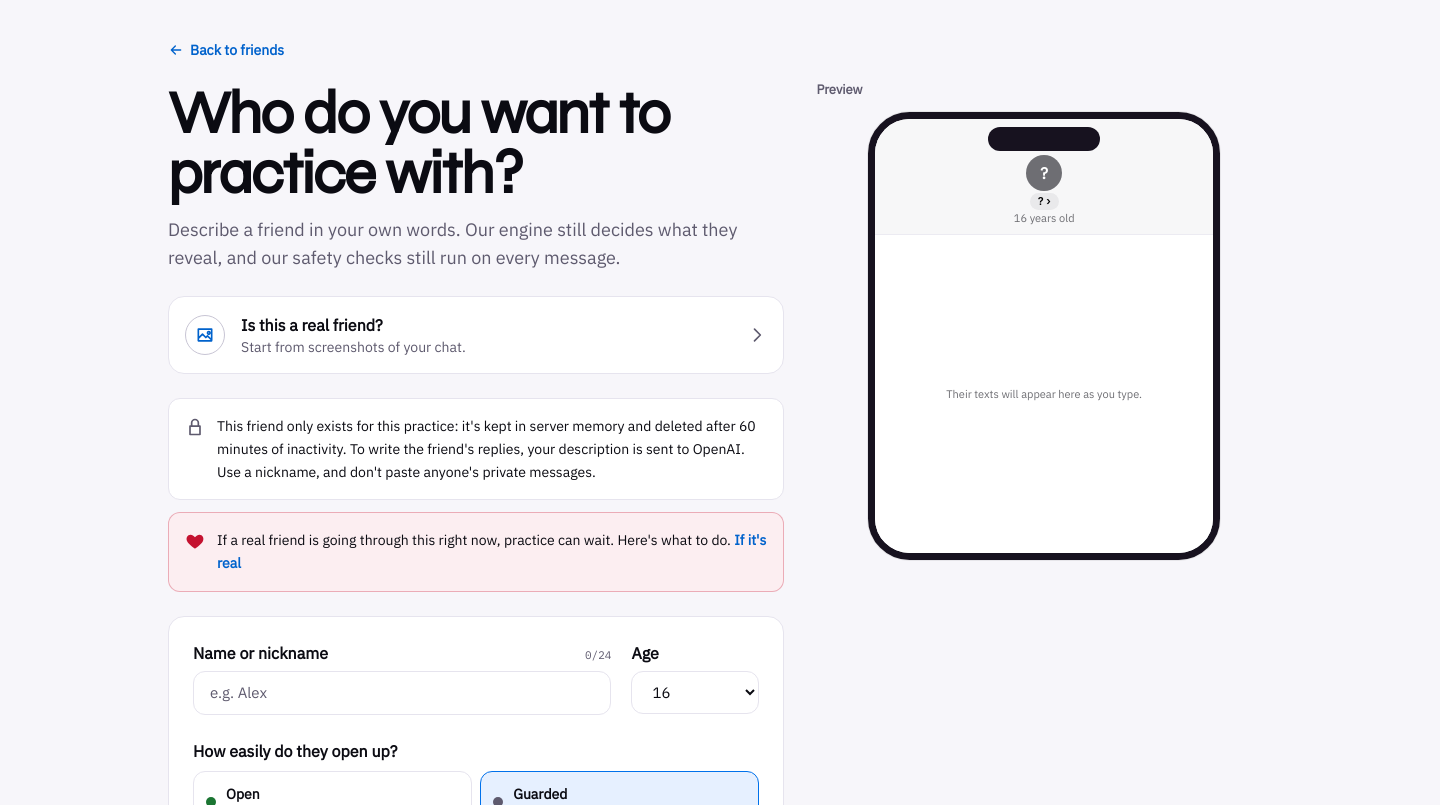
Add your own friend › maps sample_texts.N errors to that text box
Type "Alex" into the field labelled "Name or nickname" at (402, 693), box [193, 671, 611, 715]
(page scrolled)
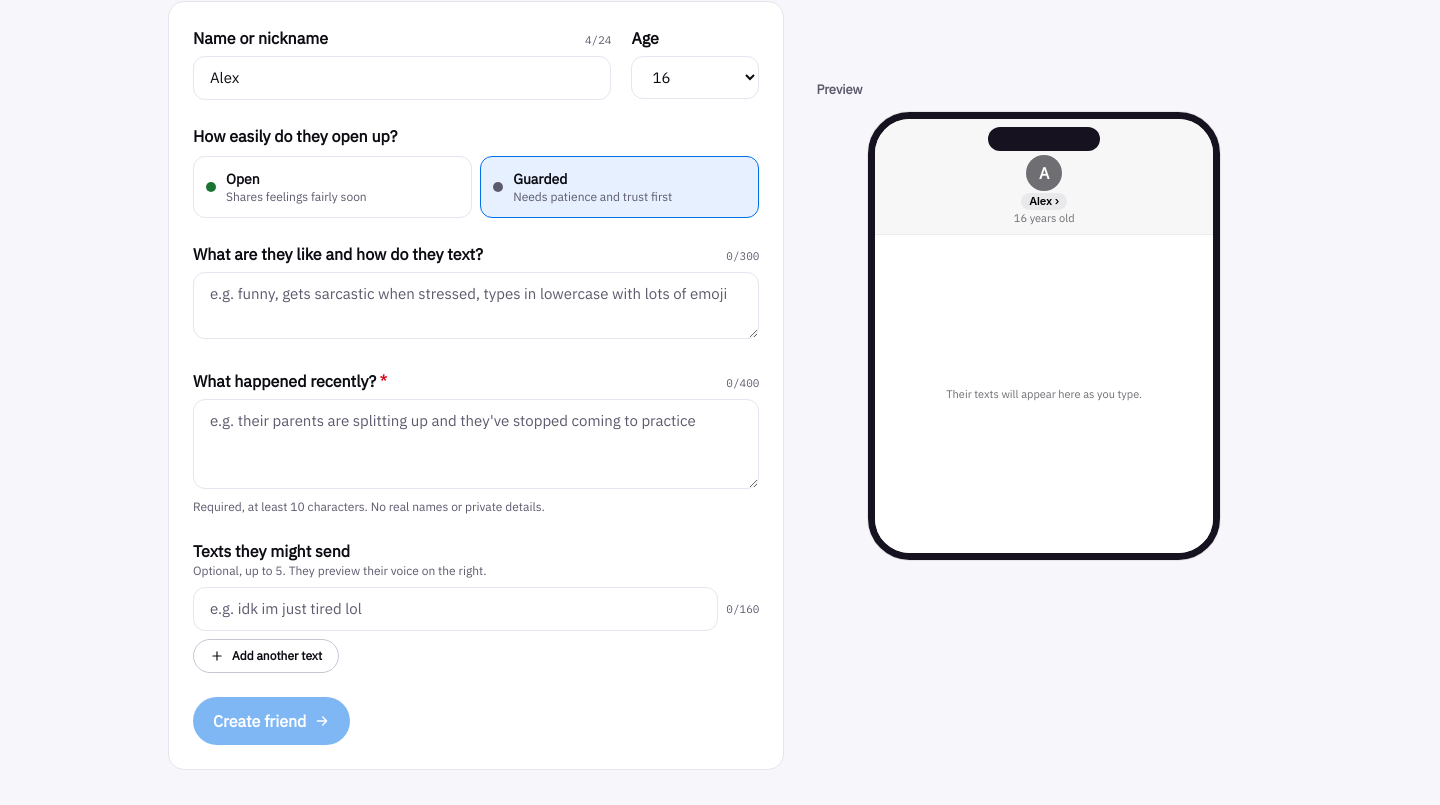
Replace the text in the text box labelled "What happened recently? *" with "Their parents are splitting up and they stopped coming to practice." at (476, 444), box [193, 399, 759, 489]
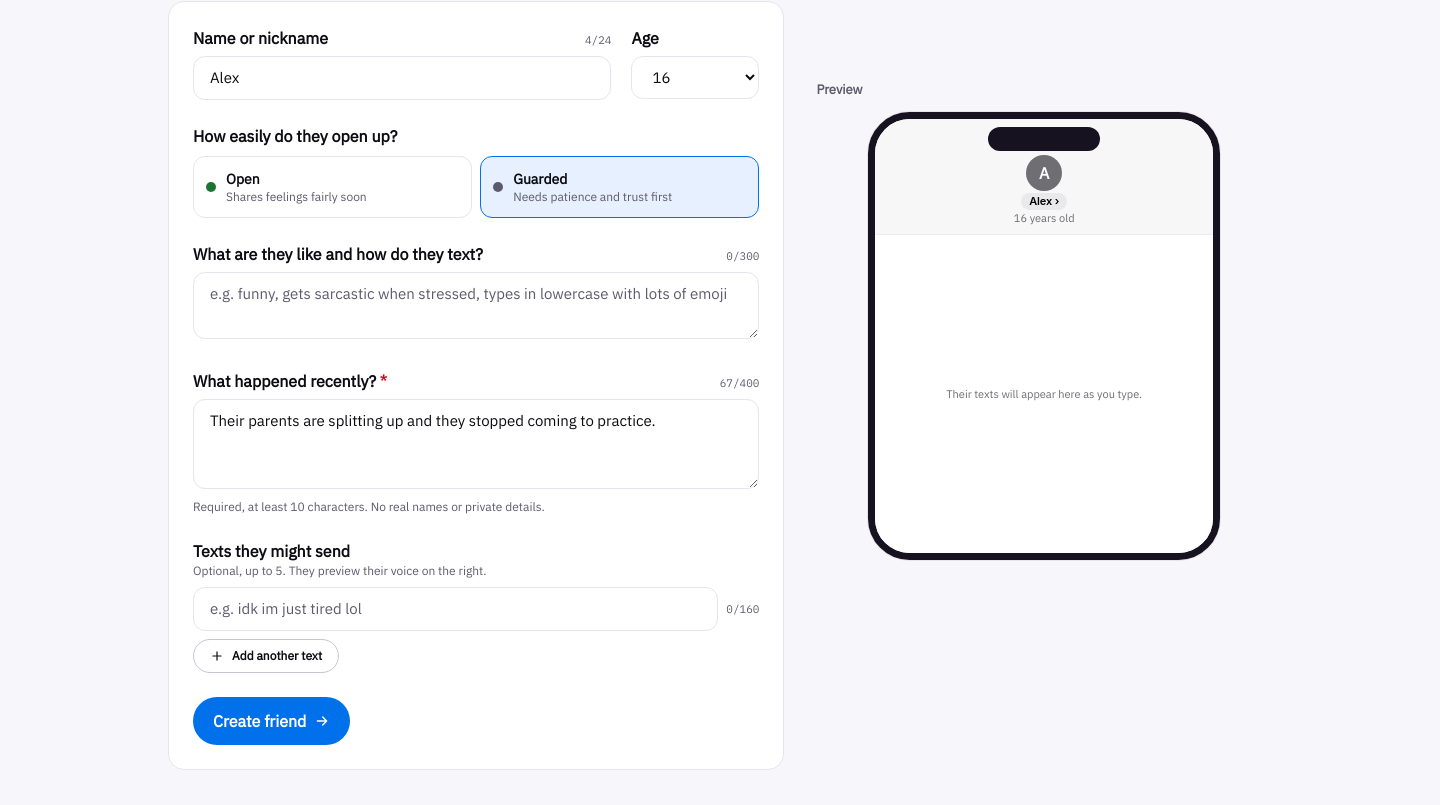
Type "hey" into the field with test id "friend-text" at (456, 609), box [193, 587, 718, 631]
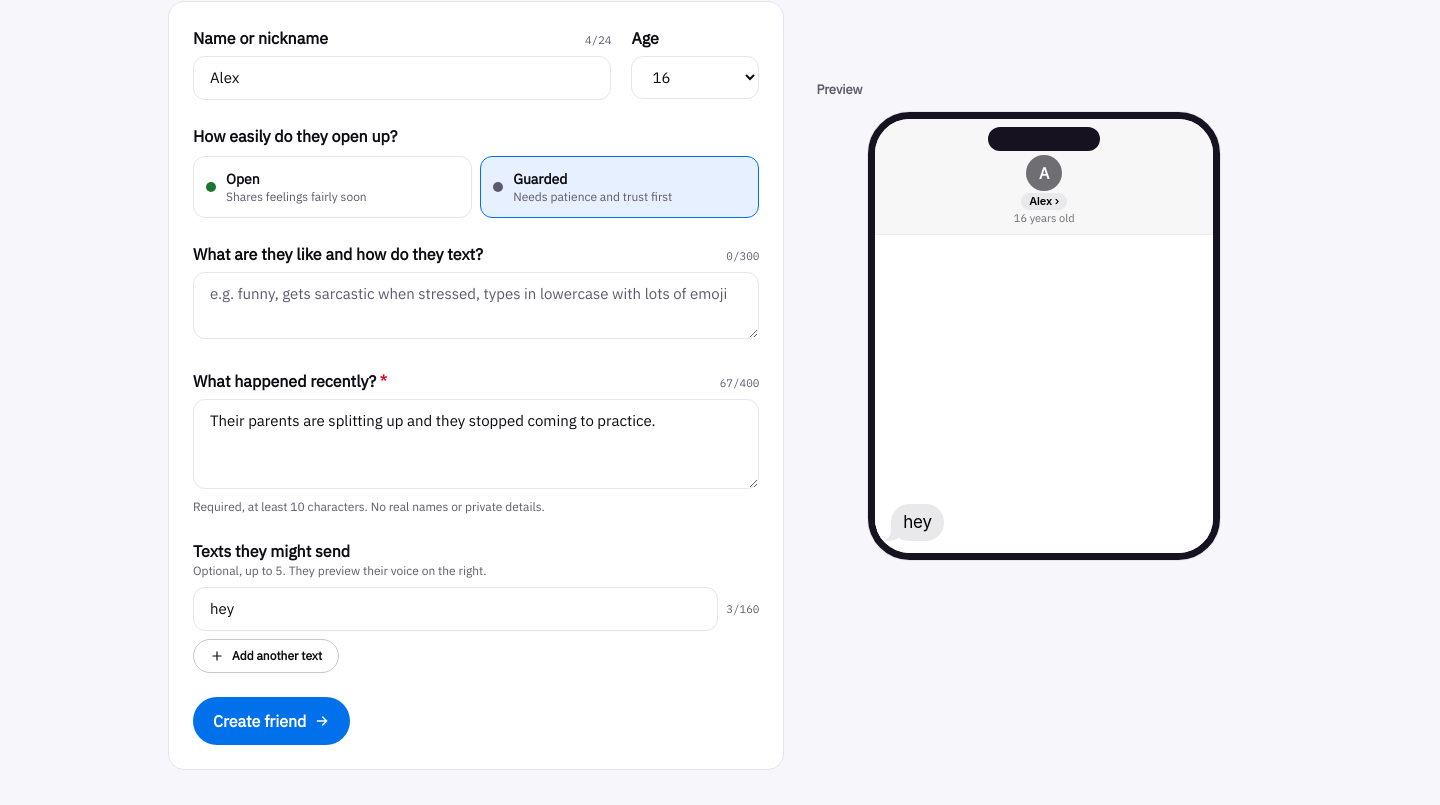
Click the button with test id "friend-create" at (272, 721), box [193, 697, 350, 745]
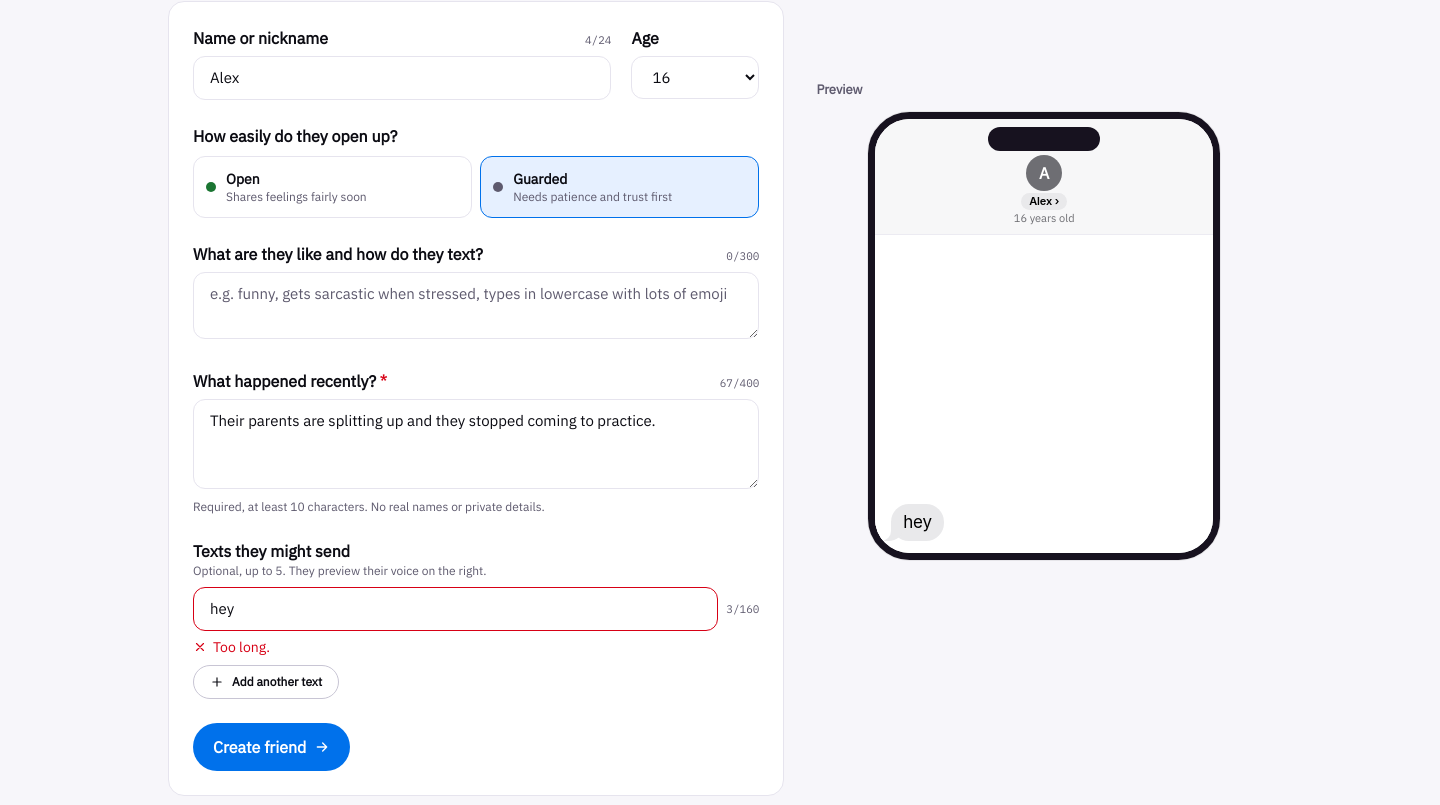
Expected: the text "Too long." is shown, [193, 638, 270, 656]
